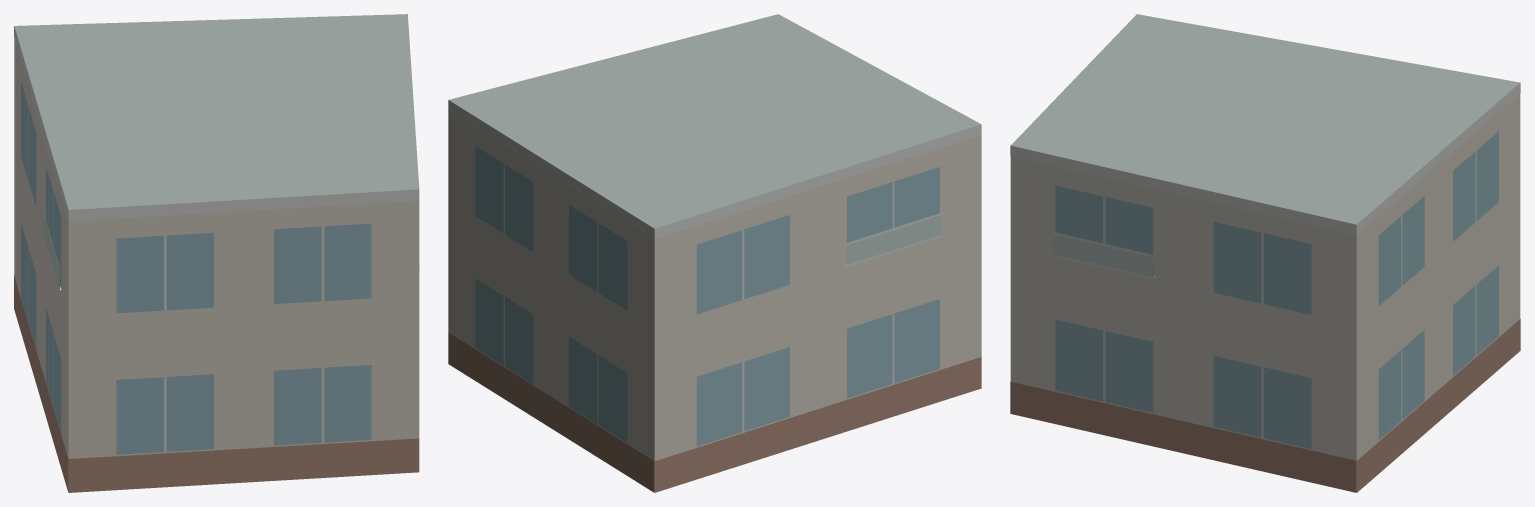
File: survey-upis-32796088.glb
3 views of the same model, side by side, from view 1: azimuth 30°, elevation 25°; view 2: azimuth 150°, elevation 25°; view 3: azimuth 270°, elevation 25° (orthographic). The views are drawn at different scales.
Parts seen in each view (by area): view 1: survey-upis-32796088.tmp; view 2: survey-upis-32796088.tmp; view 3: survey-upis-32796088.tmp.
Boxes of the visible parts, x1,y1,x2,y2 form: survey-upis-32796088.tmp: (14, 14, 419, 492); survey-upis-32796088.tmp: (448, 14, 981, 492); survey-upis-32796088.tmp: (1010, 14, 1520, 492).
Bounding box in the file's own units: 10.28 × 6.1 × 10.52.
